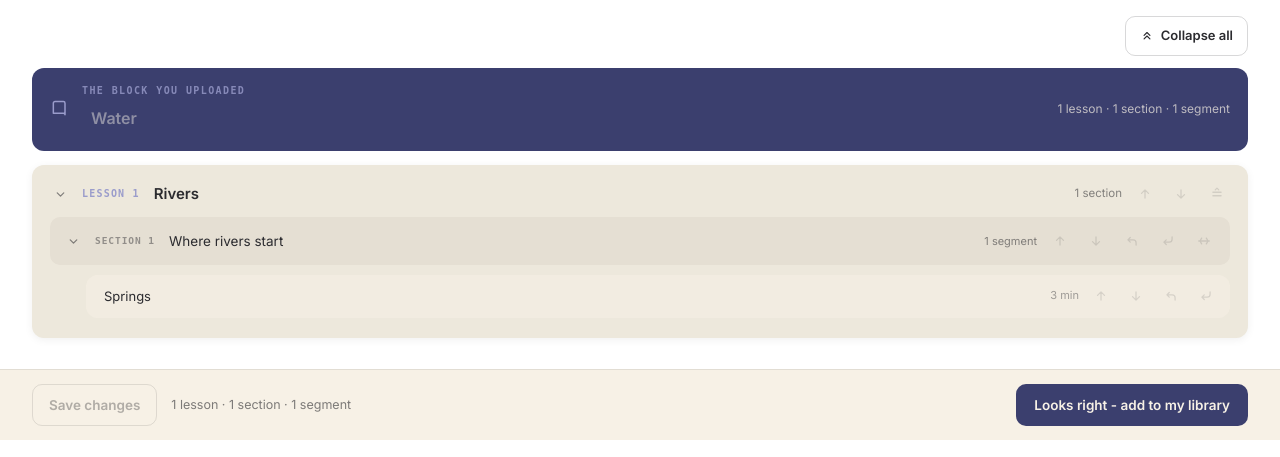
undo › puts back what the server says the structure now is
Replace the text in the field named "Lesson 1 title" with "Streams" at (607, 194), box [150, 180, 1064, 207]
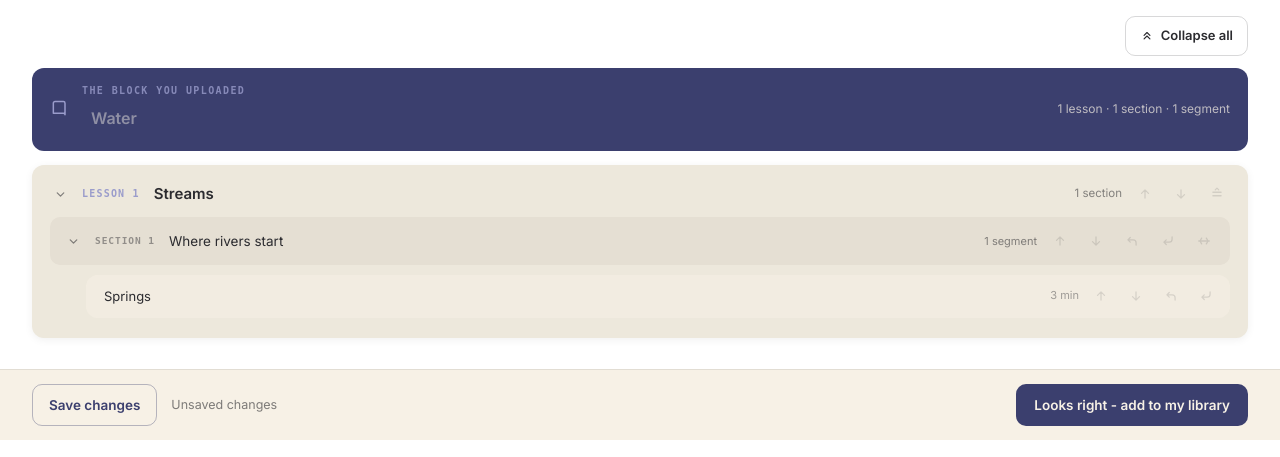
Click the button "Save changes" at (95, 405), box [32, 384, 157, 426]
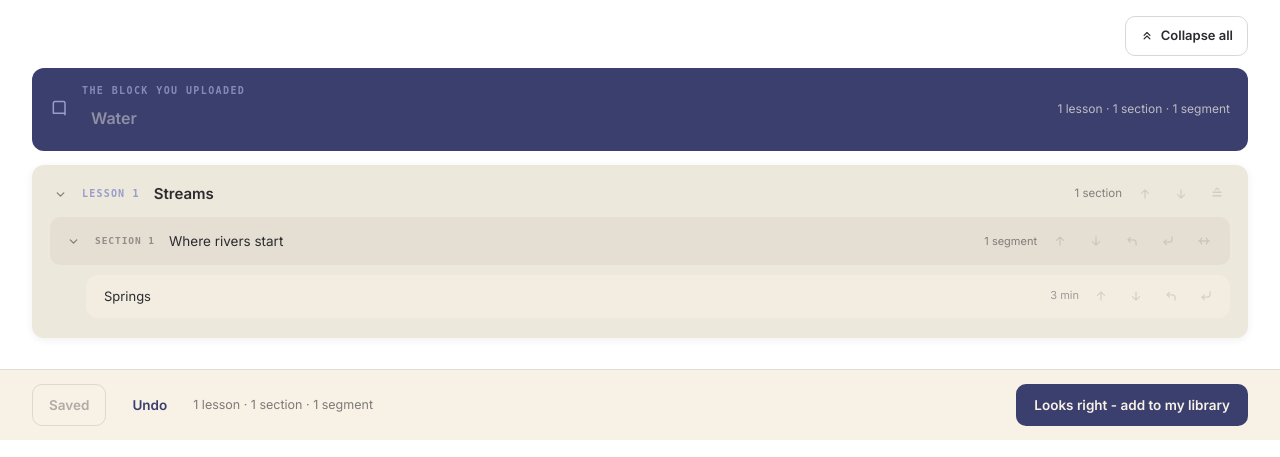
Result: the button "Saved" is shown at [32, 384, 106, 426]
Click the button "Undo" at (150, 405), box [120, 384, 179, 426]
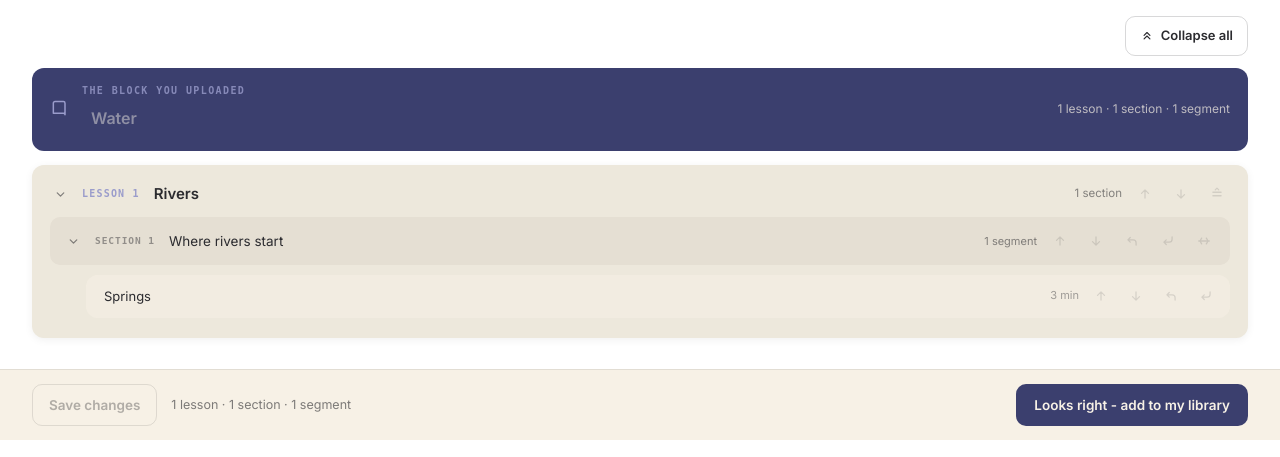
Result: the field showing "Rivers" is shown at [150, 180, 1064, 207]
Result: the button "Undo" is gone
